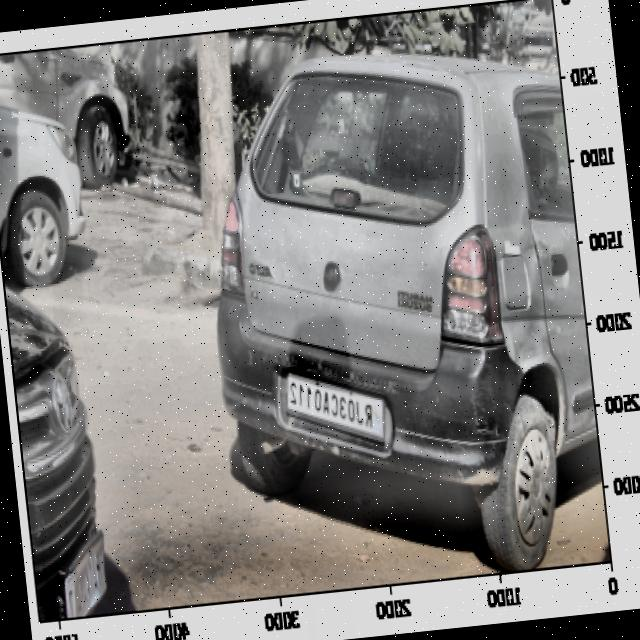license_plate: (285, 369, 377, 440)
